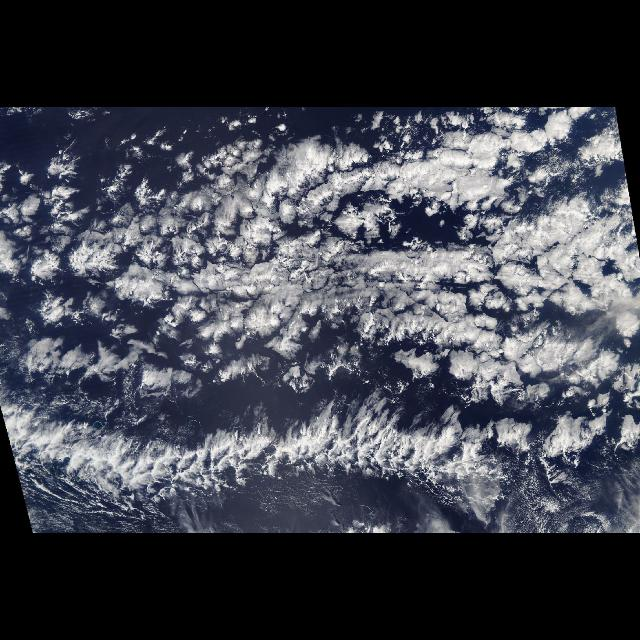Fish: (2, 400, 530, 522)
Flower: (1, 109, 639, 519)
Sugar: (2, 383, 640, 531)
